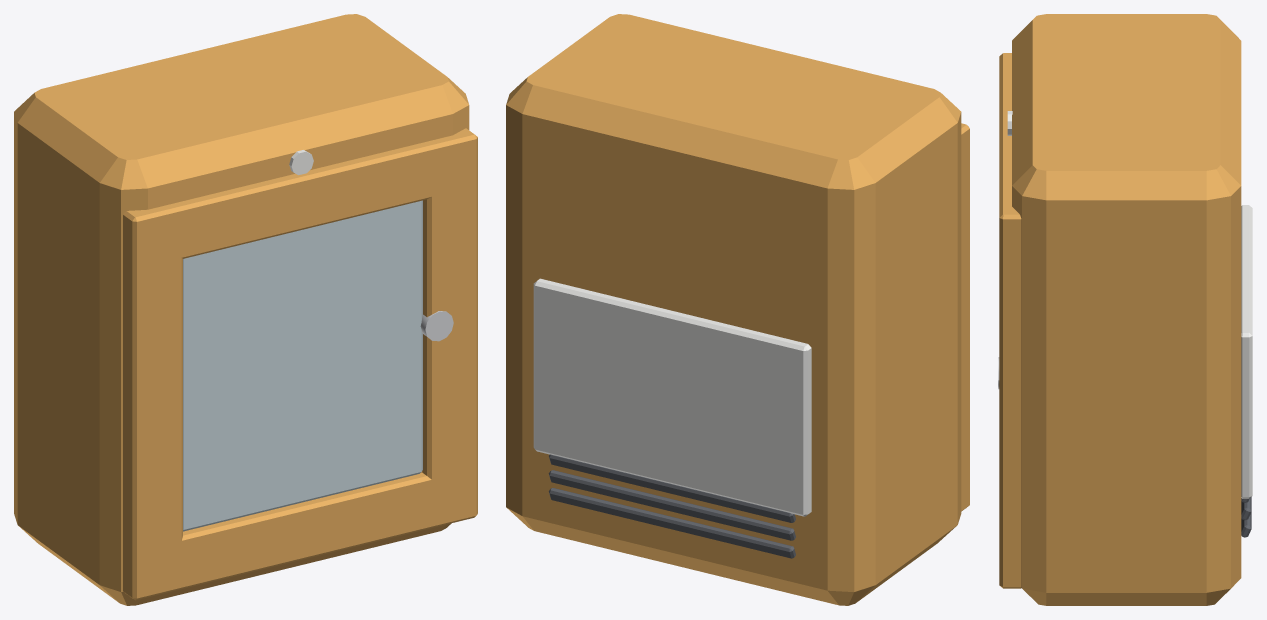
Rendered from office-lobby-and-facilities-defibrillator-cabinet-0e389a44__26290.glb.
The picture shows the model from 3 angles, left to right: view 1: azimuth 30°, elevation 25°; view 2: azimuth 150°, elevation 25°; view 3: azimuth 270°, elevation 25°; orthographic projection. The views are drawn at different scales.
Parts seen in each view (by area): view 1: defibrillator-cabinet, cabinet-door/accent, cabinet-door/glass, cabinet-door/metal; view 2: defibrillator-cabinet, cabinet-door/accent; view 3: defibrillator-cabinet, cabinet-door/accent.
Part boxes in pixels (x1,y1,x2,y2): defibrillator-cabinet: (14,14,469,605); cabinet-door/accent: (123,128,477,600); cabinet-door/glass: (183,200,422,531); cabinet-door/metal: (420,311,453,341); defibrillator-cabinet: (506,14,961,605); cabinet-door/accent: (961,123,969,511); defibrillator-cabinet: (1007,14,1252,605); cabinet-door/accent: (999,53,1021,588).
Size of the model in its own units: 0.36 by 0.42 by 0.222.
